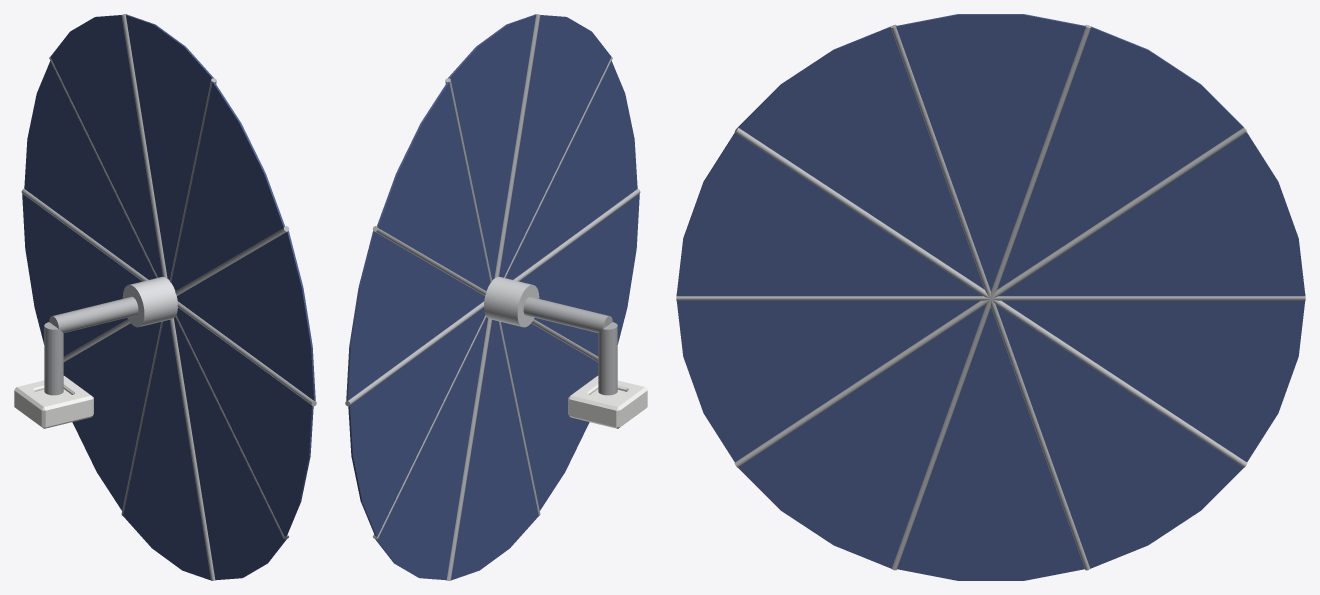
Rendered from ax_power_03_fan_array_s_deployed.glb.
3 views of the same model, side by side, from view 1: azimuth 30°, elevation 25°; view 2: azimuth 150°, elevation 25°; view 3: azimuth 270°, elevation 25° (orthographic). The views are drawn at different scales.
Parts seen in each view (by area): view 1: petal_9, petal_1, petal_7, petal_3, petal_10, petal_8, petal_2, petal_6, petal_4, petal_5, spars, yoke (+2 smaller); view 2: petal_7, petal_5, petal_9, petal_3, petal_6, petal_8, petal_4, petal_10, petal_2, petal_1, spars, yoke (+2 smaller); view 3: petal_8, petal_6, petal_10, petal_2, petal_4, petal_7, petal_9, petal_5, petal_1, petal_3, spars.
Part boxes in pixels (x1,y1,x2,y2): petal_9: [171, 82, 284, 290]; petal_1: [176, 307, 313, 536]; petal_7: [50, 15, 162, 277]; petal_3: [123, 320, 210, 580]; petal_10: [177, 231, 315, 400]; petal_8: [126, 14, 213, 280]; petal_2: [174, 317, 286, 580]; petal_6: [24, 61, 156, 279]; petal_4: [63, 322, 160, 510]; petal_5: [22, 193, 142, 356]; spars: [21, 14, 316, 580]; yoke: [44, 296, 138, 395]; petal_7: [377, 82, 490, 290]; petal_5: [348, 307, 485, 536]; petal_9: [499, 15, 611, 277]; petal_3: [451, 320, 538, 580]; petal_6: [346, 231, 484, 400]; petal_8: [448, 14, 535, 280]; petal_4: [375, 317, 487, 580]; petal_10: [505, 61, 637, 279]; petal_2: [501, 322, 598, 510]; petal_1: [519, 193, 639, 356]; spars: [345, 14, 640, 580]; yoke: [523, 296, 617, 395]; petal_8: [896, 14, 1085, 290]; petal_6: [999, 133, 1305, 296]; petal_10: [676, 133, 982, 296]; petal_2: [738, 304, 986, 568]; petal_4: [995, 304, 1243, 568]; petal_7: [997, 26, 1243, 289]; petal_9: [738, 26, 984, 289]; petal_5: [1002, 300, 1305, 461]; petal_1: [676, 300, 979, 461]; petal_3: [897, 307, 1084, 580]; spars: [676, 24, 1305, 570].
Bounding box in the file's own units: 0.687 × 2.39 × 2.4.
